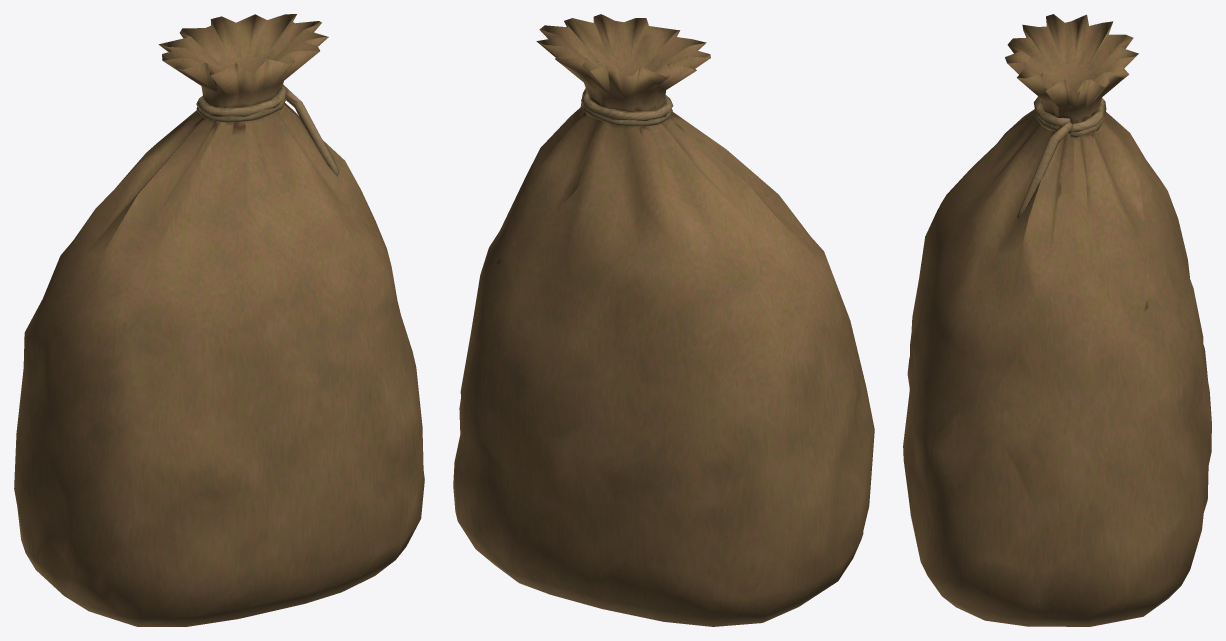
The model's file is burlap_sack.glb.
3 views of the same model, side by side, from view 1: azimuth 30°, elevation 25°; view 2: azimuth 150°, elevation 25°; view 3: azimuth 270°, elevation 25° (orthographic).
Parts seen in each view (by area): view 1: burlap_sack_mesh_lod1; view 2: burlap_sack_mesh_lod1; view 3: burlap_sack_mesh_lod1.
Boxes of the visible parts, bbox=[...] form: burlap_sack_mesh_lod1: bbox=[14, 14, 424, 626]; burlap_sack_mesh_lod1: bbox=[453, 14, 874, 626]; burlap_sack_mesh_lod1: bbox=[903, 14, 1211, 626].
Bounding box in the file's own units: 0.4581 × 0.6335 × 0.3345.
1 material, 1 textured.
